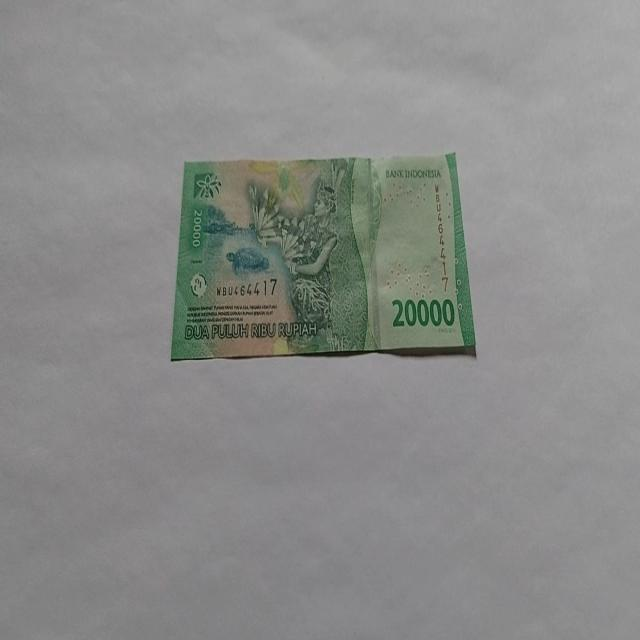dua puluh ribu rupiah: (169, 150, 477, 363)
